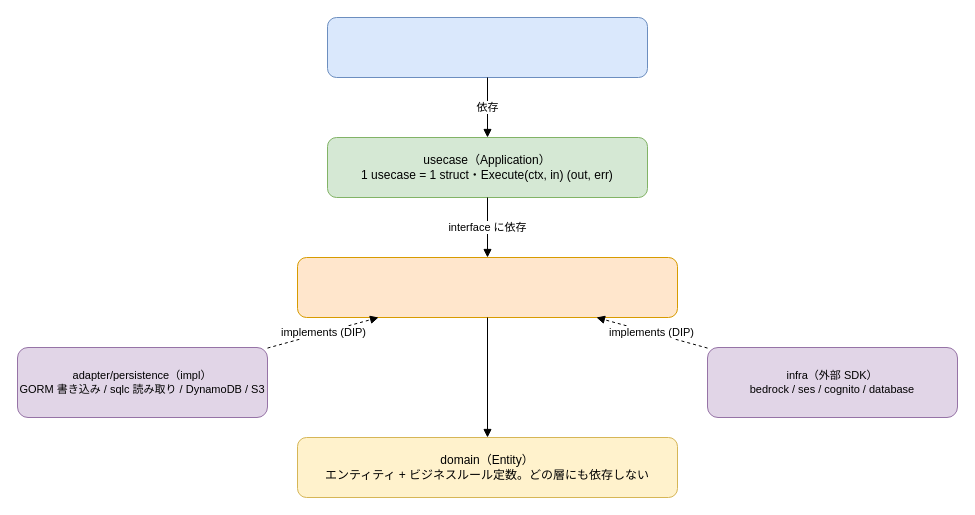
Image size: 975x515. Some labels were removed from this diagram. Each missing label, with the centre of its shape:
handler（Gin） HTTP / SSE 受付・認証取得・JSON 返却: the point at 487,47
repository（port / interface） internal/usecase/repository — usecase が依存する“抽象”: the point at 487,287
